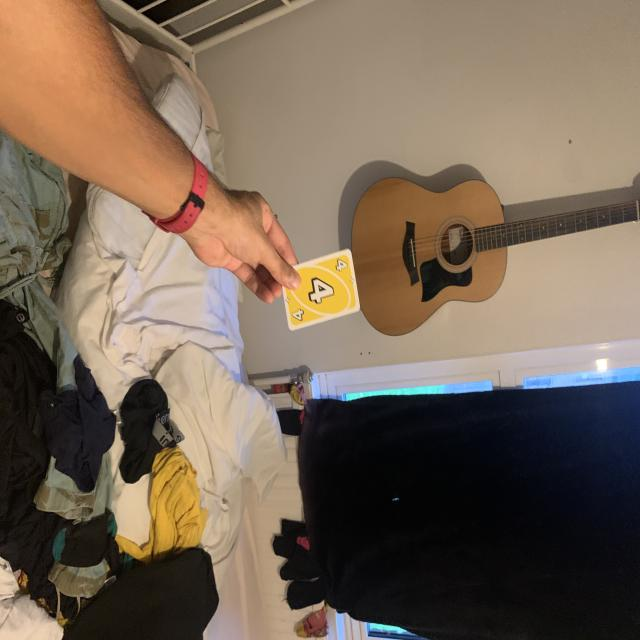lyellow-4: (332, 257, 349, 274)
